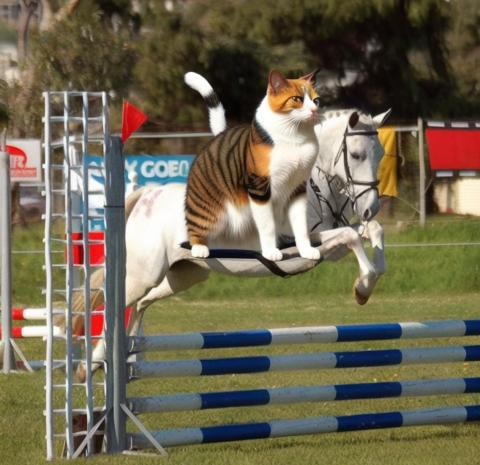cat: (182, 69, 322, 260)
horse: (56, 105, 400, 383)
